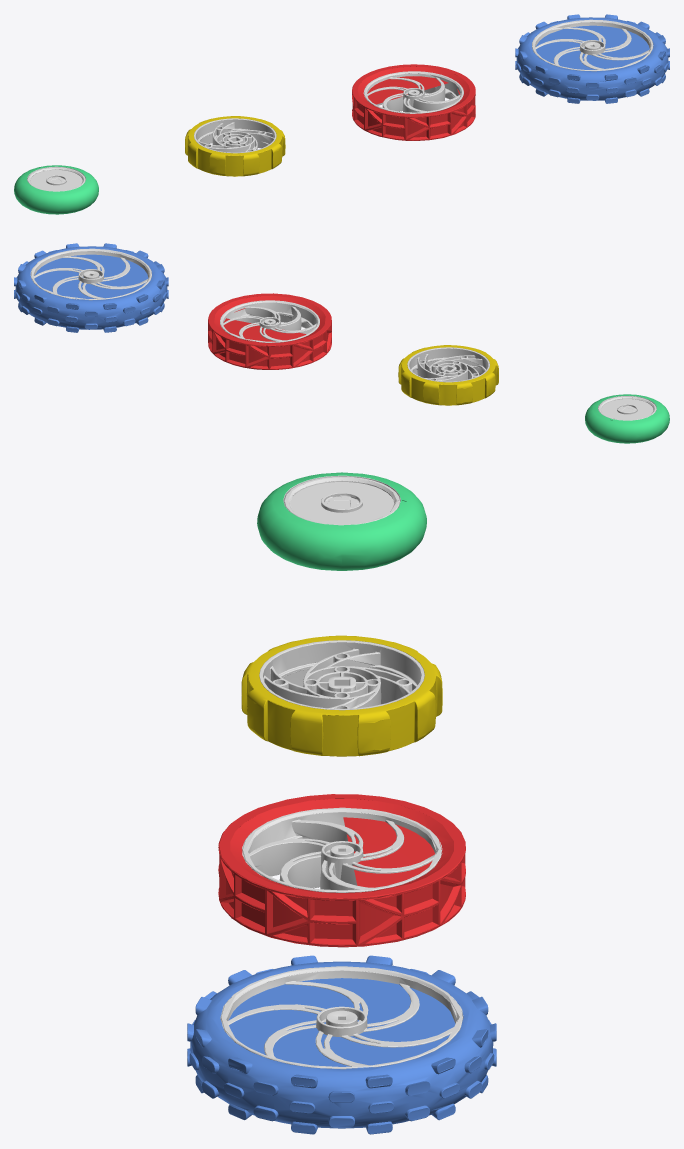
File: TractionWheels.fbx
3 renders of one model, top to bottom at view 1: azimuth 30°, elevation 25°; view 2: azimuth 150°, elevation 25°; view 3: azimuth 270°, elevation 25°, orthographic. The views are drawn at different scales.
Visible parts, largest first — view 1: TWHL 5in, TWHL 4in, TWHL 3.25in, TWHL 2.75in; view 2: TWHL 5in, TWHL 4in, TWHL 3.25in, TWHL 2.75in; view 3: TWHL 5in, TWHL 4in, TWHL 3.25in, TWHL 2.75in.
Part boxes in pixels (x1=…): TWHL 5in: x1=515, y1=14, x2=669, y2=103; TWHL 4in: x1=352, y1=64, x2=475, y2=140; TWHL 3.25in: x1=185, y1=116, x2=285, y2=176; TWHL 2.75in: x1=14, y1=165, x2=98, y2=214; TWHL 5in: x1=14, y1=243, x2=168, y2=332; TWHL 4in: x1=208, y1=293, x2=331, y2=369; TWHL 3.25in: x1=398, y1=345, x2=498, y2=405; TWHL 2.75in: x1=585, y1=394, x2=669, y2=443; TWHL 5in: x1=187, y1=955, x2=496, y2=1134; TWHL 4in: x1=218, y1=794, x2=465, y2=947; TWHL 3.25in: x1=241, y1=635, x2=442, y2=756; TWHL 2.75in: x1=257, y1=472, x2=426, y2=570.
Size of the model in its own units: 2387 by 100 by 500.
